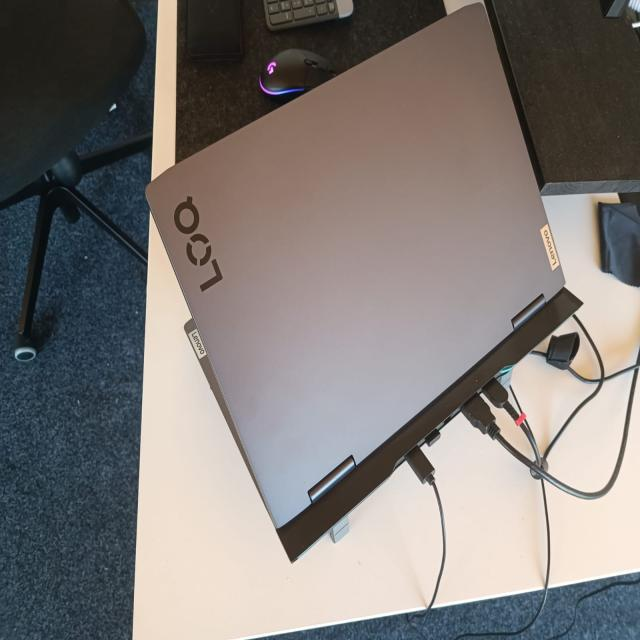Laptops_bbox: (132, 0, 594, 516)
